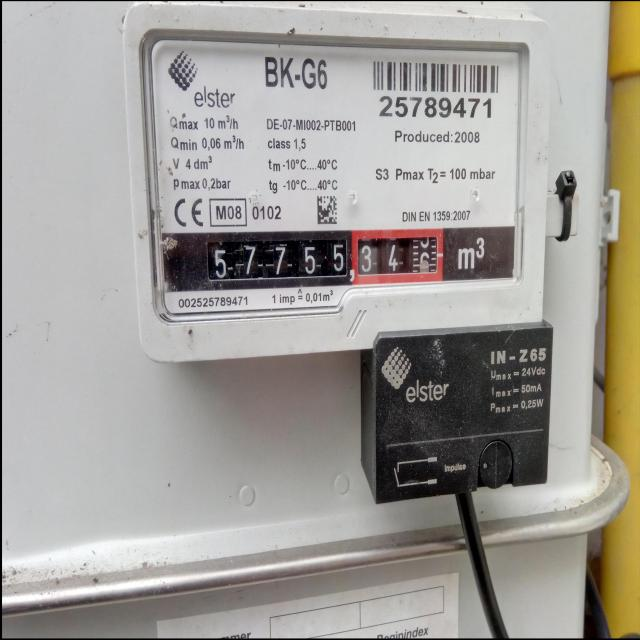gaz_meter: (146, 34, 525, 296)
indication: (210, 230, 443, 283)
